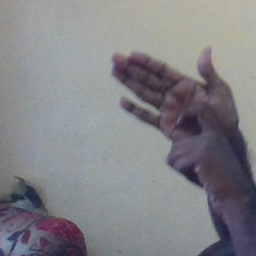R: (107, 39, 232, 176)
